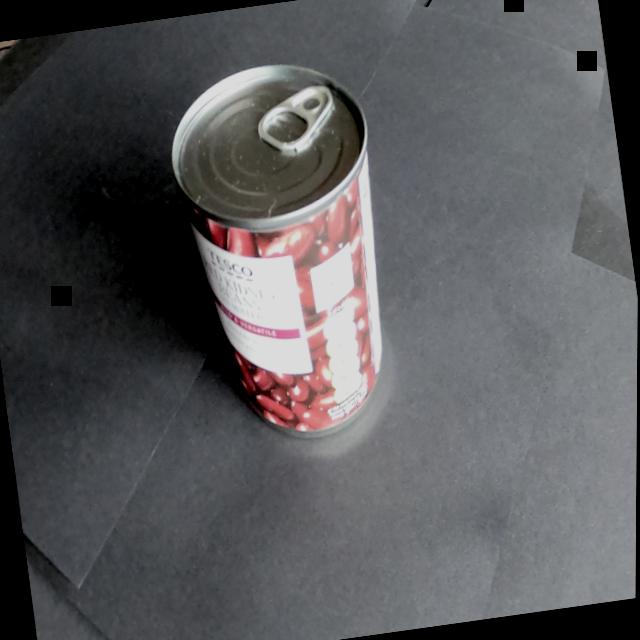Redbeans: (145, 38, 420, 468)
